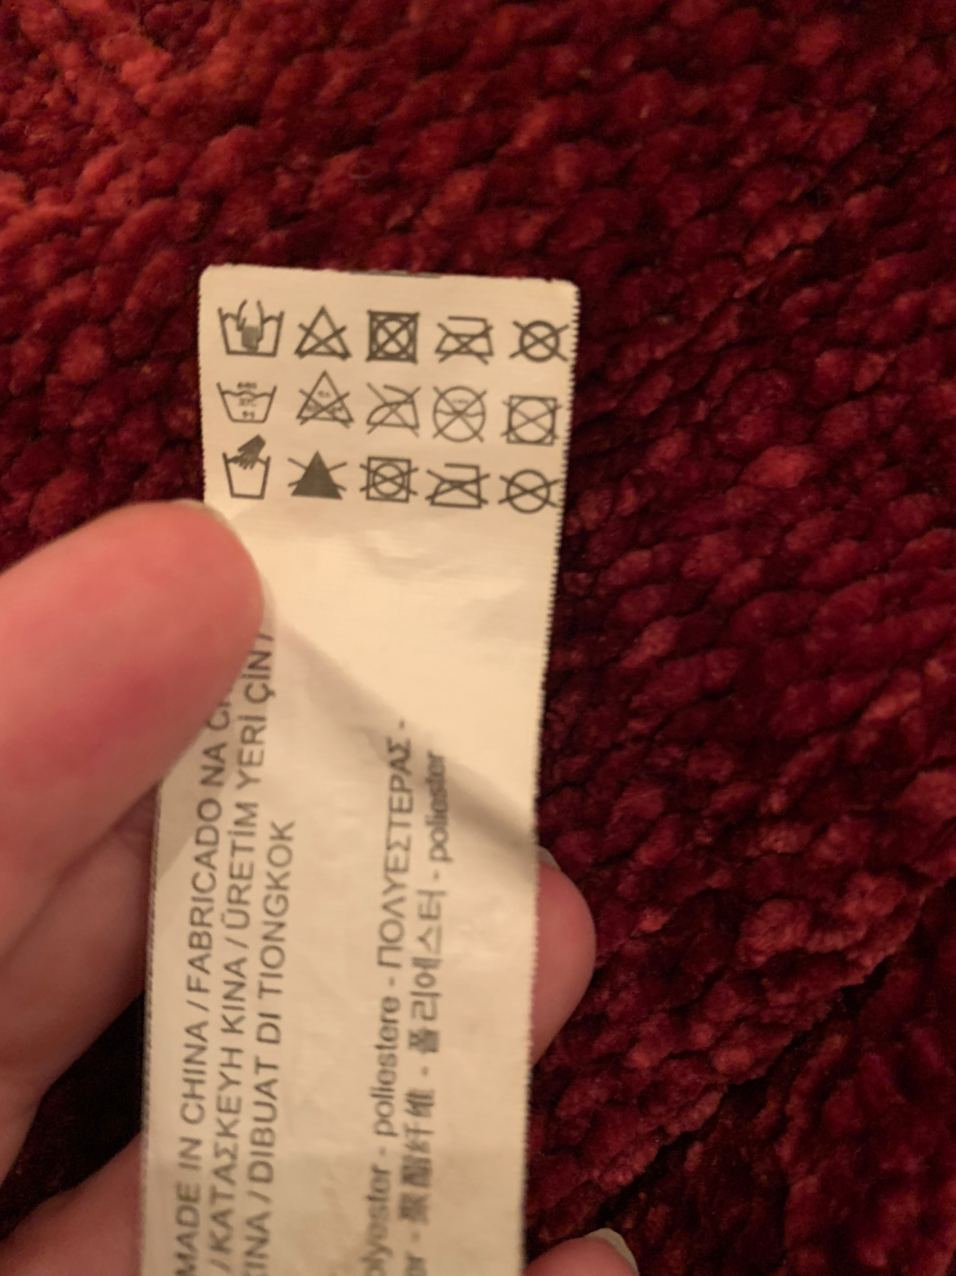do_not_bleach: (290, 298, 355, 368), (285, 449, 351, 504)
do_not_dry_clean: (506, 312, 570, 370), (496, 461, 562, 516)
do_not_iron: (360, 373, 424, 442), (424, 456, 493, 514), (432, 307, 498, 367)
do_not_tumble_drying: (502, 390, 563, 450), (365, 306, 423, 366), (358, 455, 421, 503)
hand_wash: (215, 429, 281, 504), (217, 295, 289, 363)
